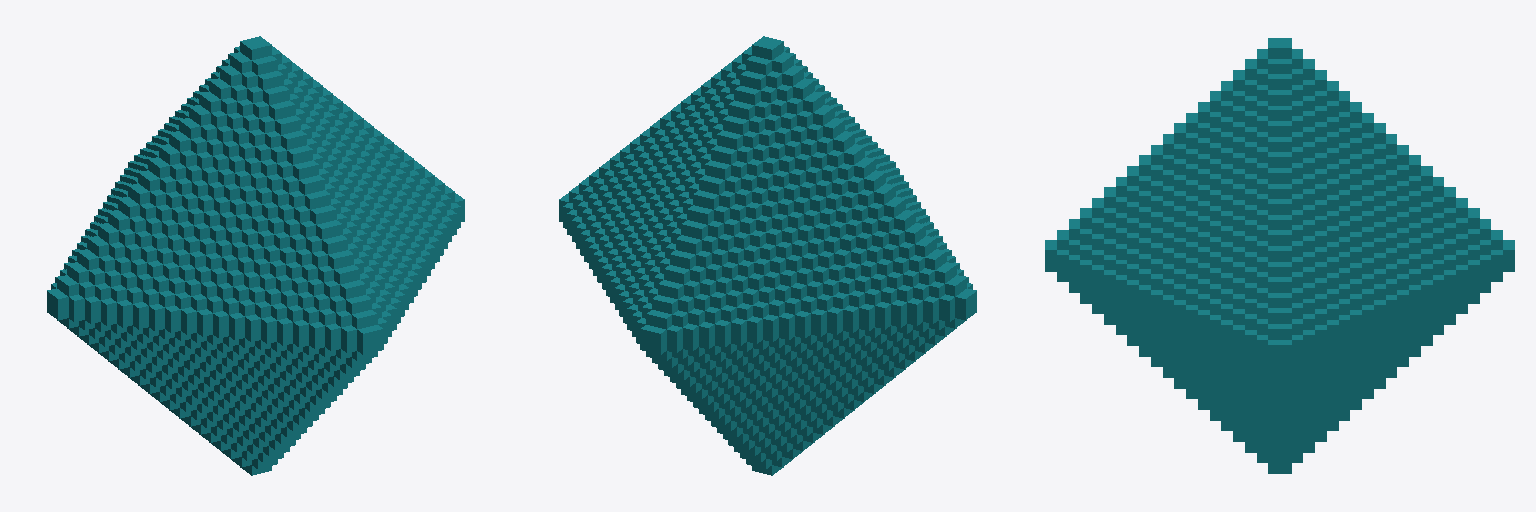
The picture shows the model from 3 angles: view 1: azimuth 30°, elevation 25°; view 2: azimuth 150°, elevation 25°; view 3: azimuth 270°, elevation 25°; orthographic projection.
Bounding box in the file's own units: 40 × 40 × 40.
1 materials, 1 textured.